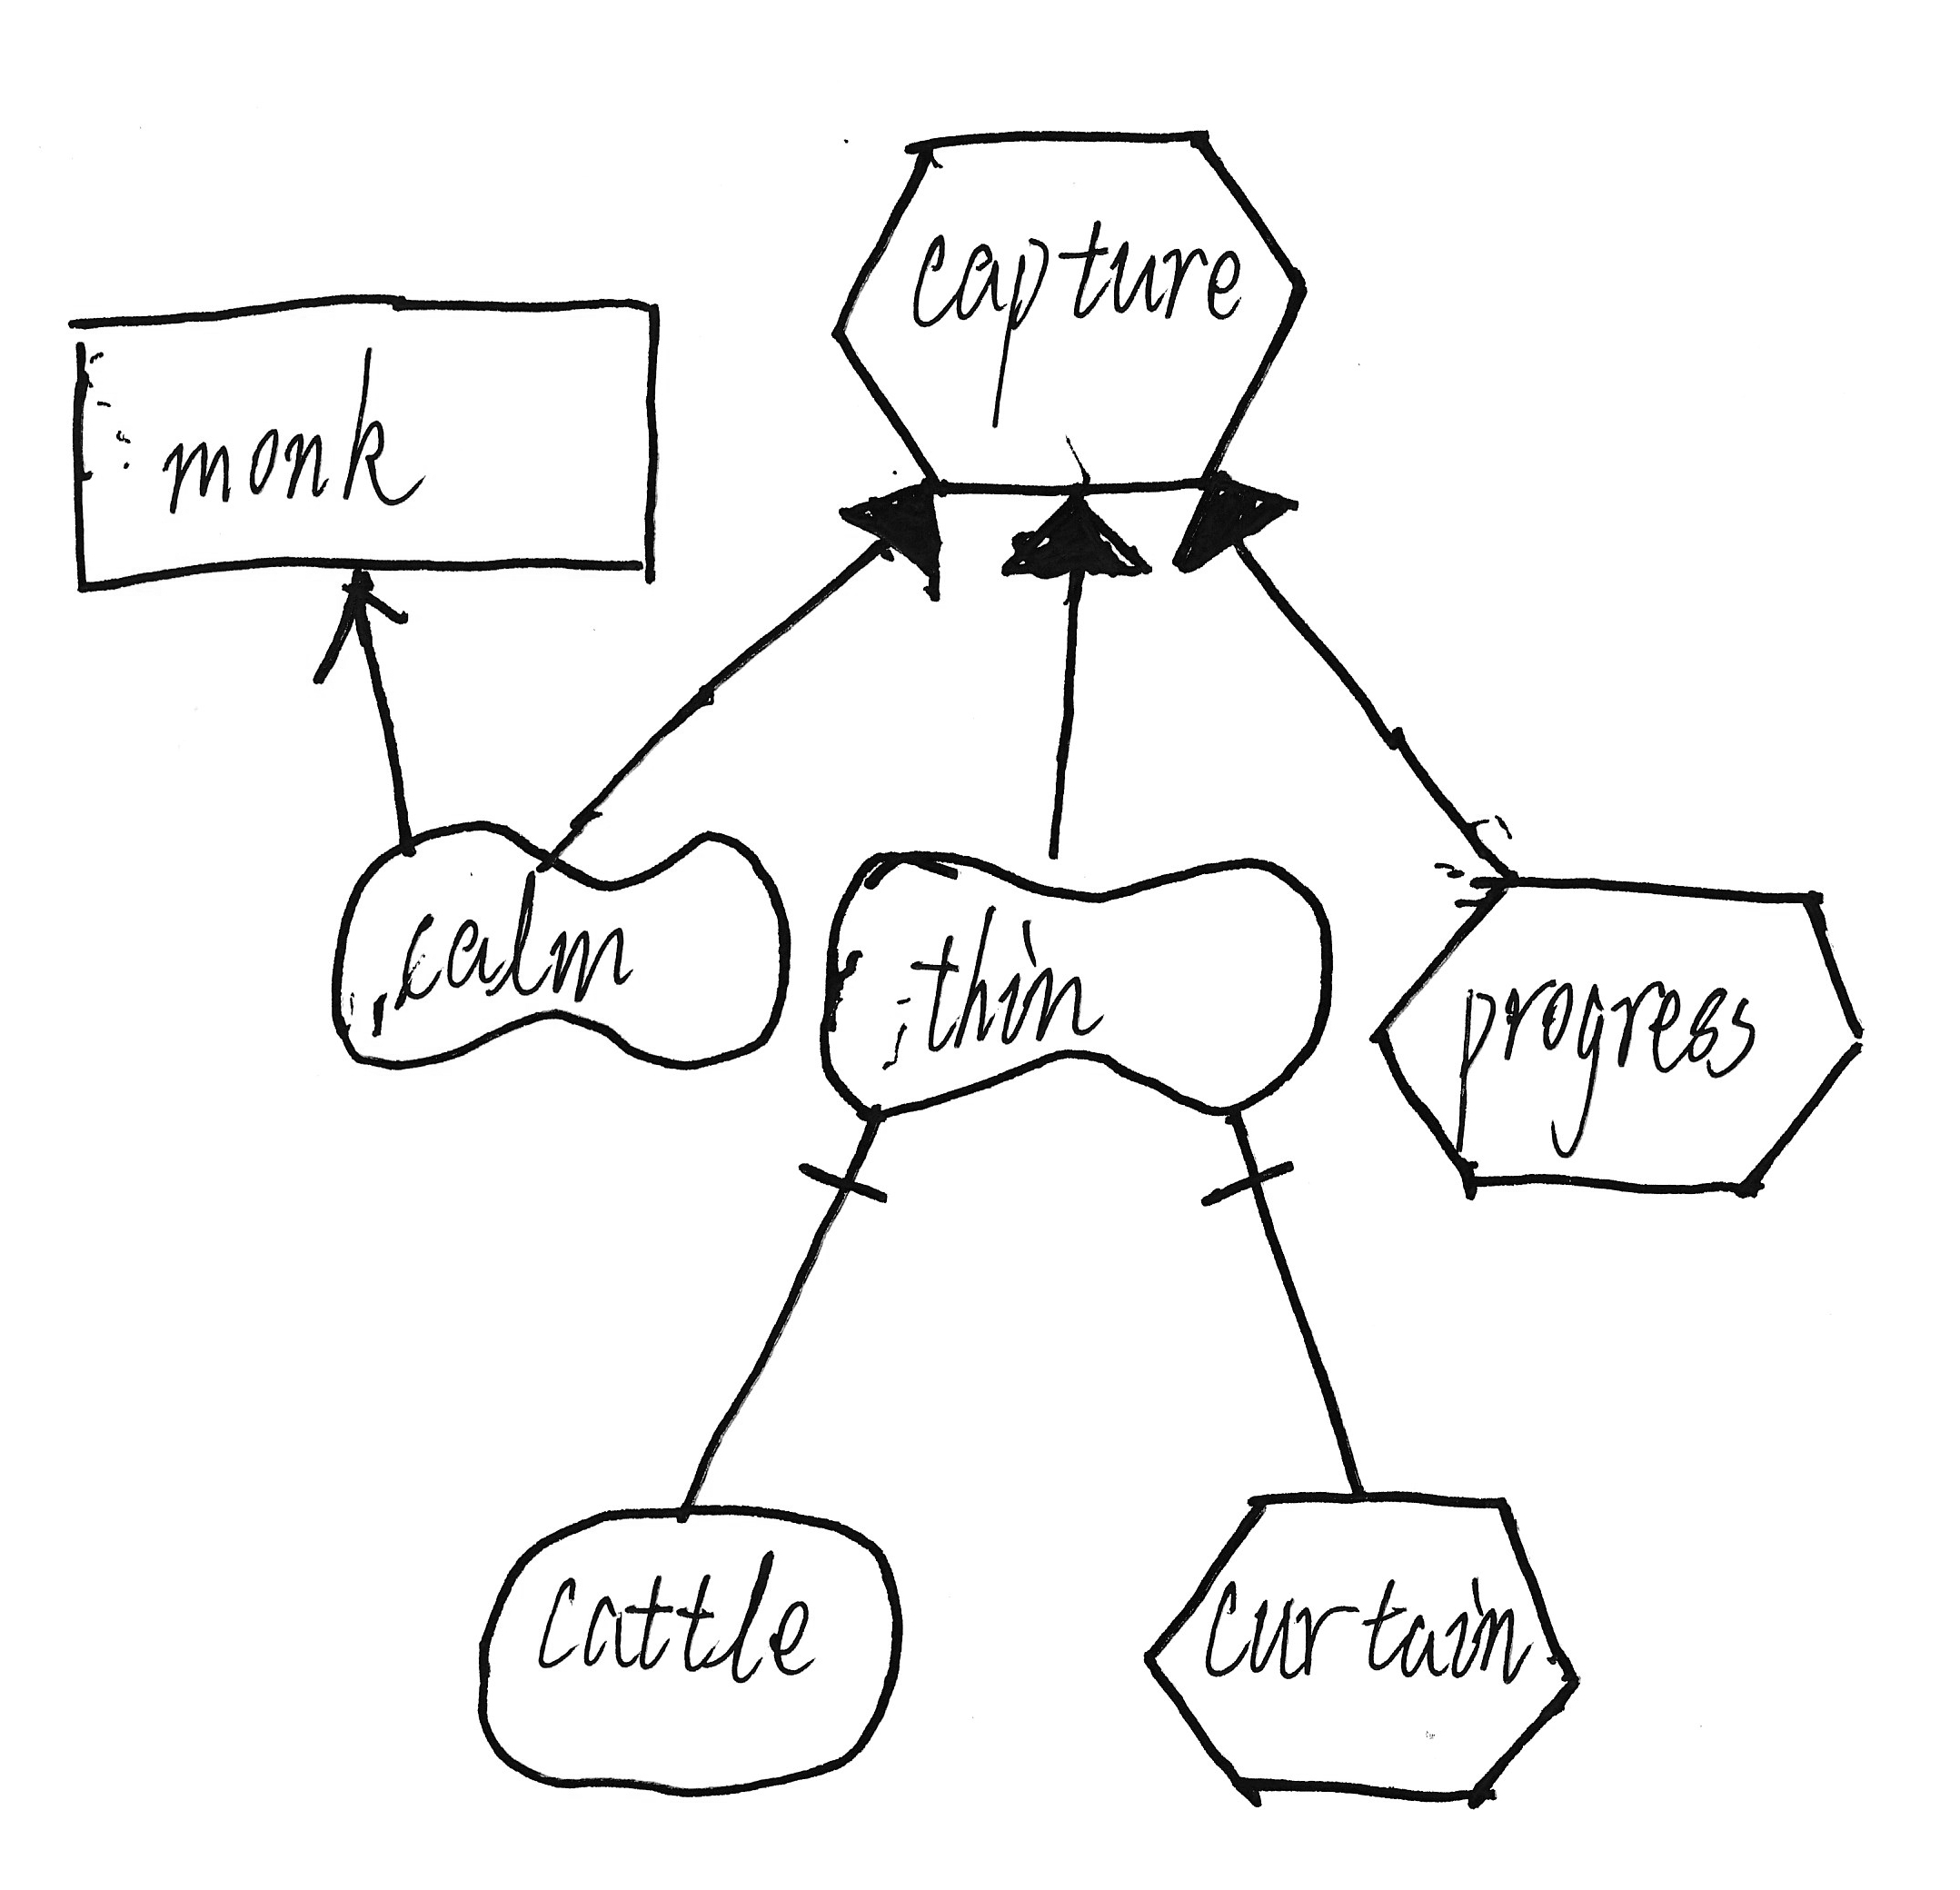and: (1179, 1136, 1318, 1232), (780, 1125, 910, 1223)
arrow: (294, 556, 436, 695)
goal: (443, 1484, 924, 1809)
or: (978, 474, 1165, 607), (821, 460, 961, 616), (1167, 462, 1318, 588)
quality: (808, 840, 1344, 1130), (308, 800, 805, 1088)
resource: (45, 264, 677, 611)
task: (814, 108, 1326, 511), (1353, 847, 1886, 1230), (1130, 1459, 1592, 1832)
